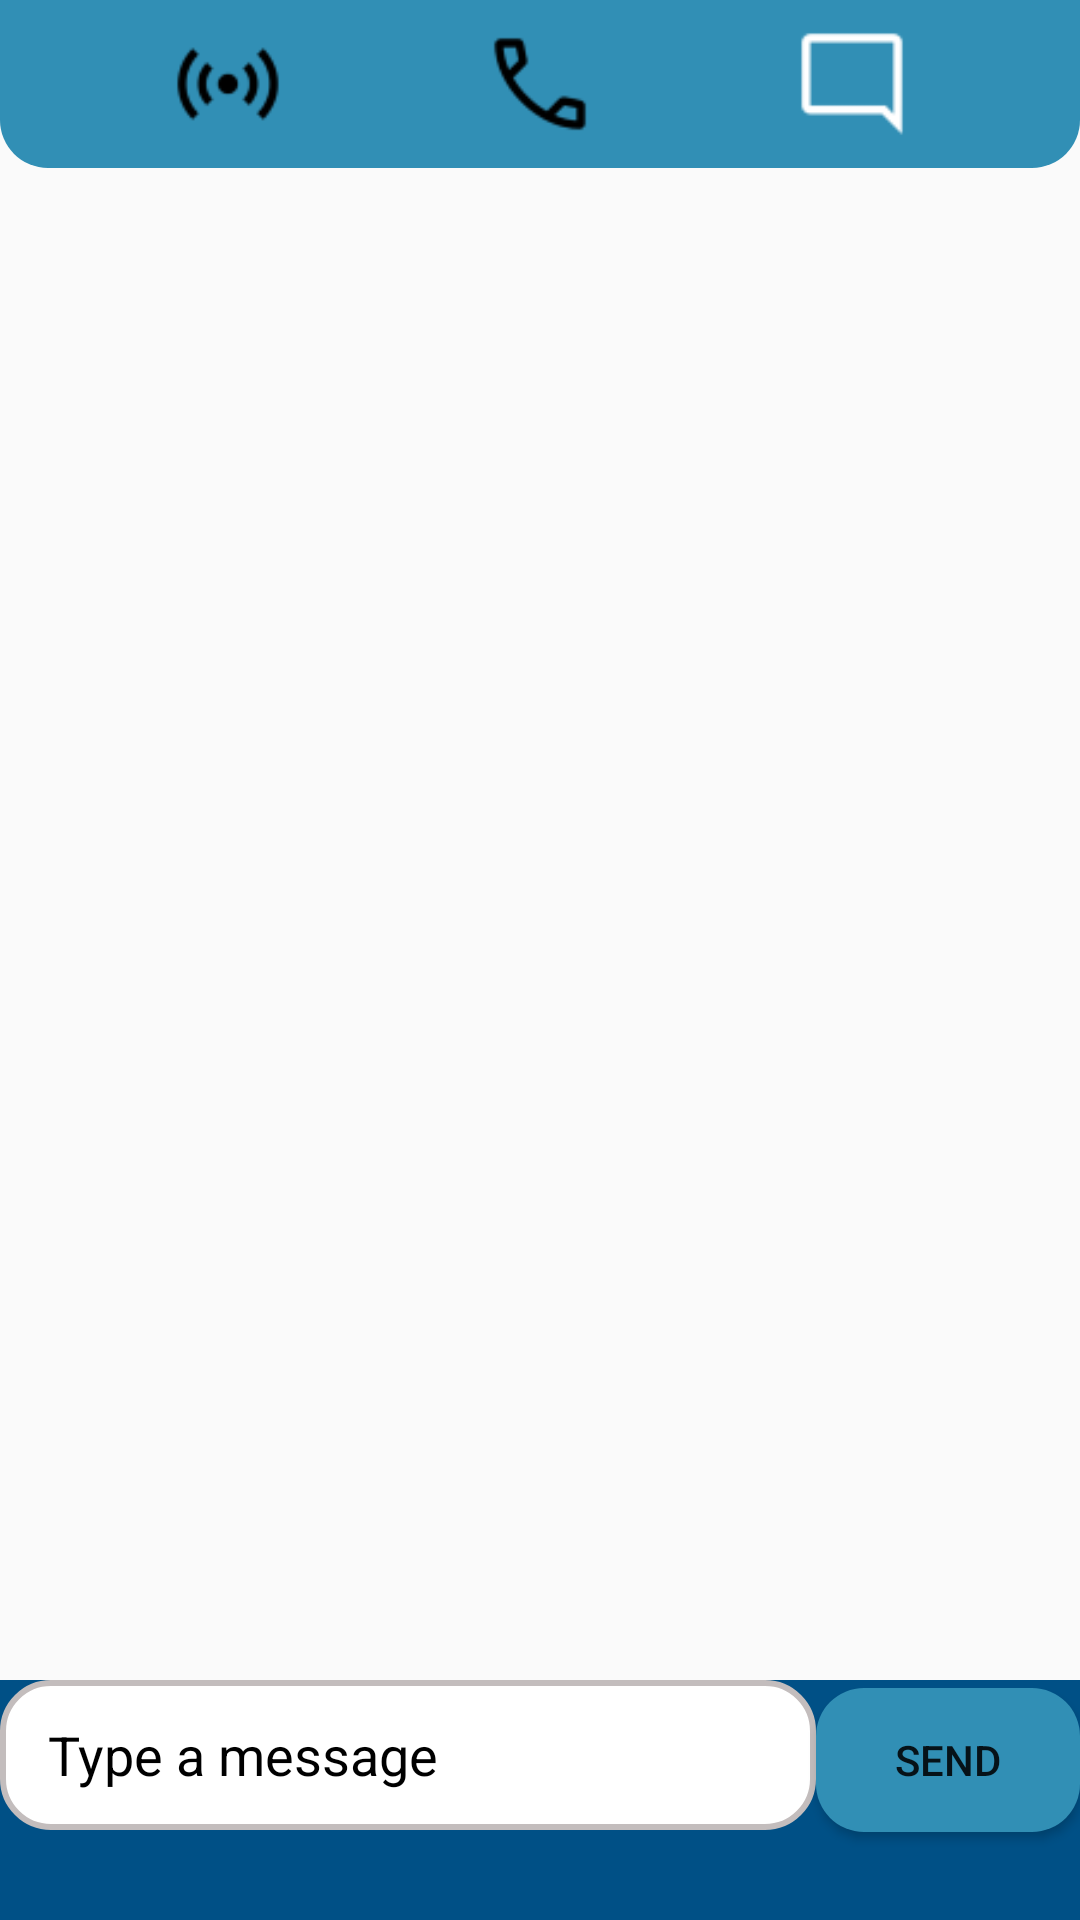

Icon bounding boxes for this 1080 × 1920 phone screenshot, format (x1, y1, x2, y2):
message: (801, 33, 903, 135)
phone: (494, 38, 586, 130)
signal: (177, 48, 279, 120)
